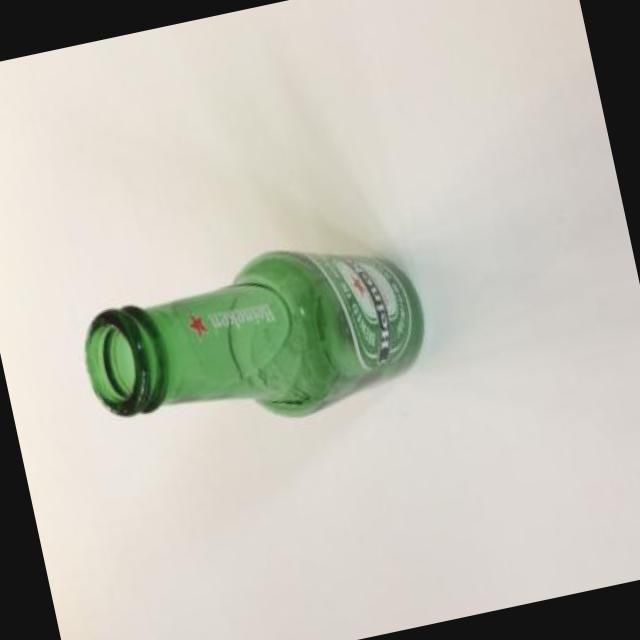chai_thuy_tinh: (82, 250, 426, 421)
